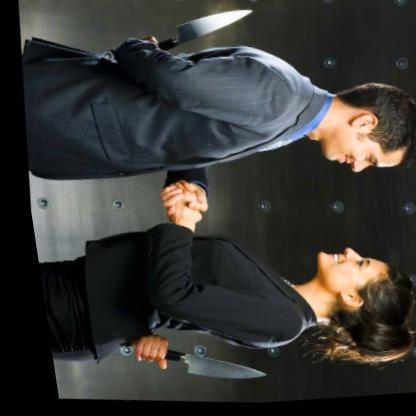knife: (121, 326, 264, 392), (146, 0, 261, 65)
